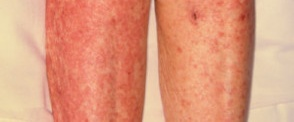SJS-TEN: (43, 0, 152, 122), (152, 0, 257, 122)
